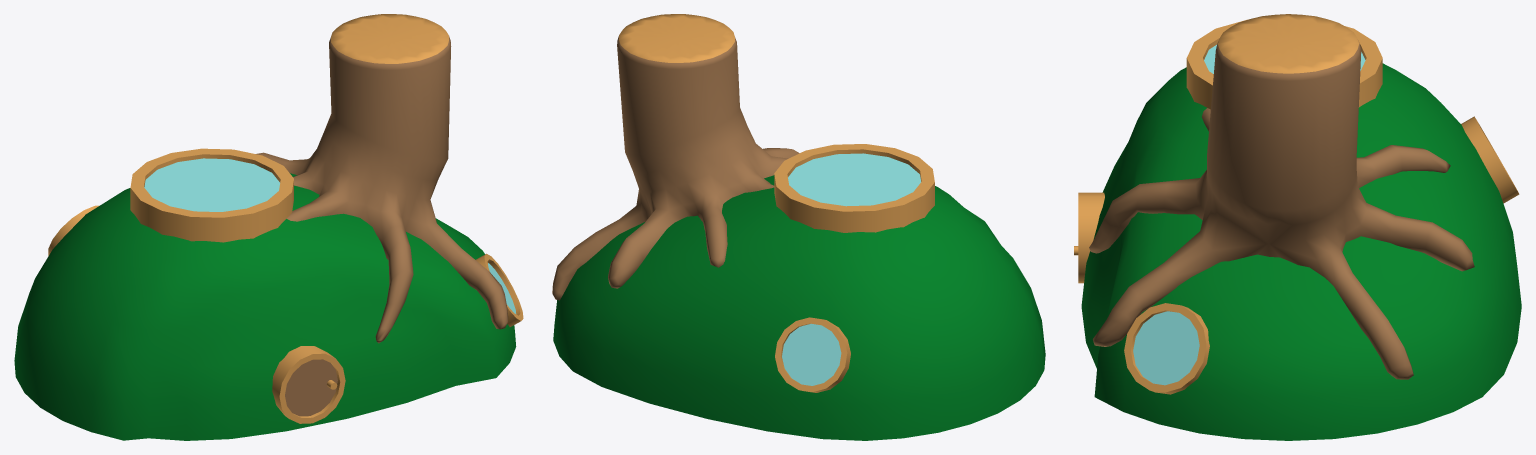
Rendered from Hobbit_Version1.fbx.
3 renders of one model, left to right at view 1: azimuth 30°, elevation 25°; view 2: azimuth 150°, elevation 25°; view 3: azimuth 270°, elevation 25°, orthographic. The views are drawn at different scales.
Visible parts, largest first — view 1: Cube.002; view 2: Cube.002; view 3: Cube.002.
Boxes of the visible parts, x1,y1,x2,y2 form: Cube.002: [14, 14, 523, 440]; Cube.002: [552, 14, 1045, 440]; Cube.002: [1074, 14, 1521, 440].
Bounding box in the file's own units: 676 × 419 × 491.
